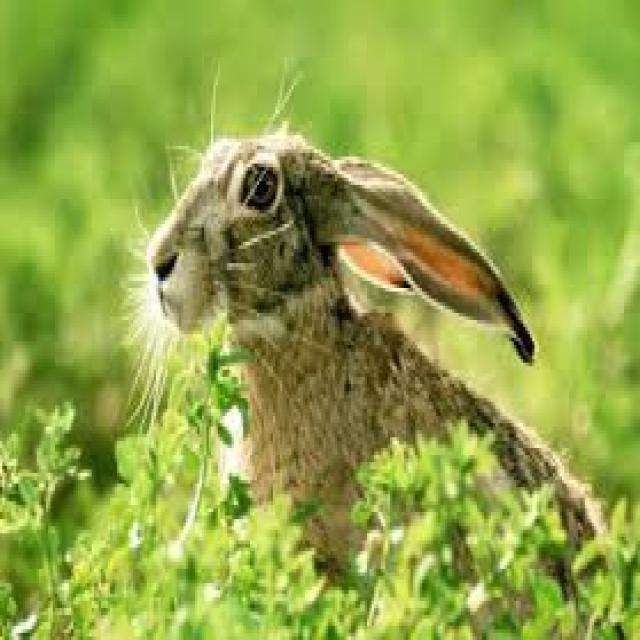Hare: (132, 85, 614, 590)
